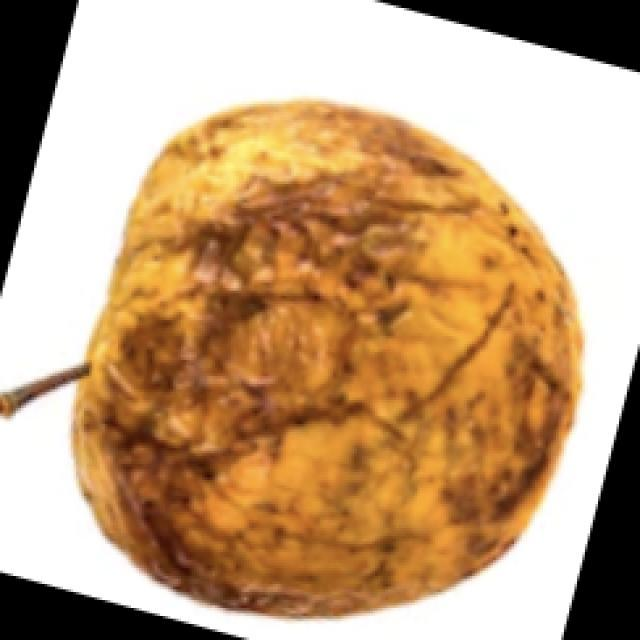Rotten: (99, 91, 544, 636)
